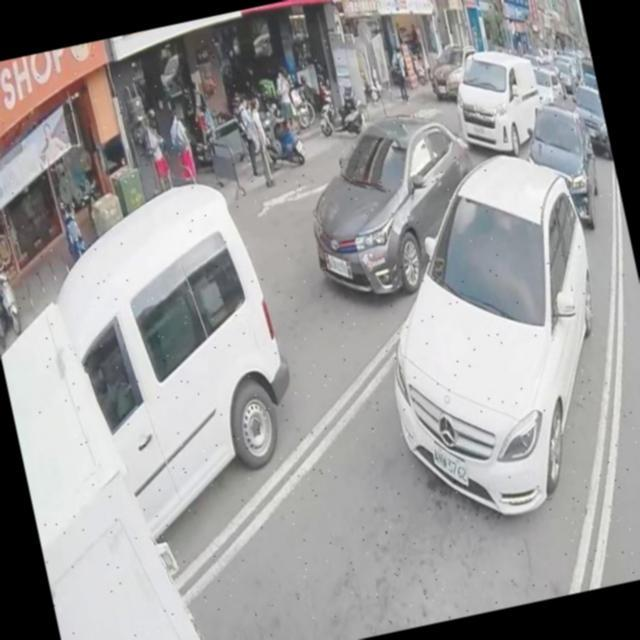person: (238, 98, 273, 186), (162, 106, 200, 186), (228, 95, 262, 180), (138, 109, 172, 192), (270, 65, 300, 136), (387, 47, 408, 104), (187, 78, 210, 124)
